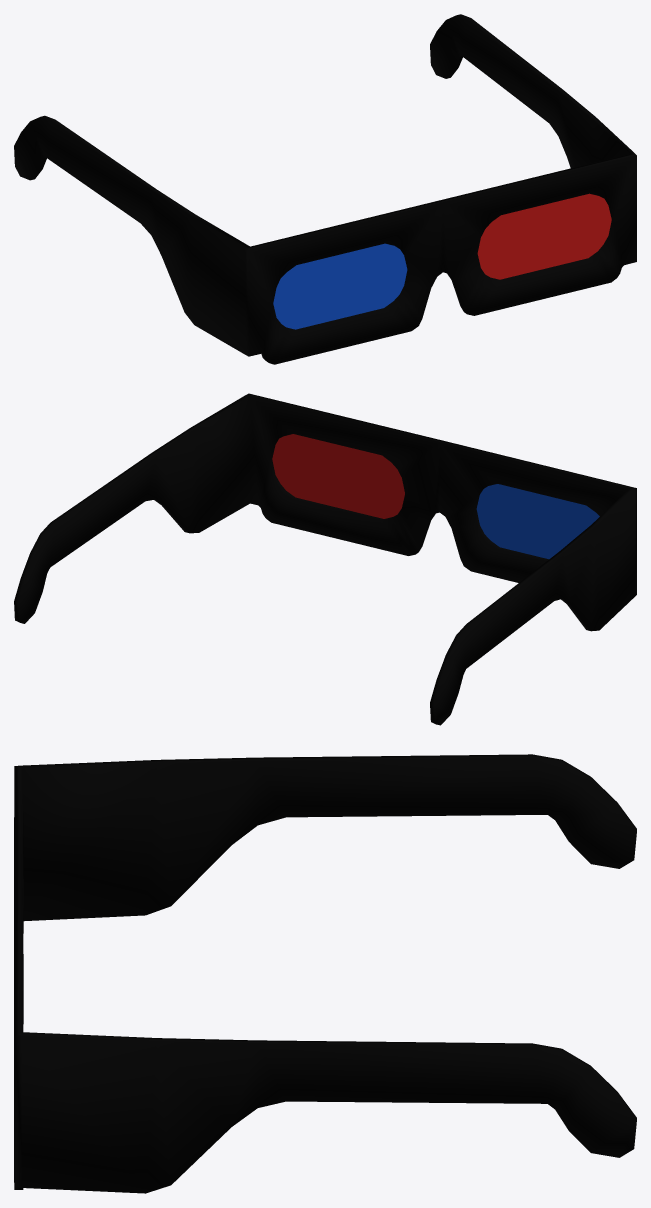
The model's file is acc008_03.dae.
The picture shows the model from 3 angles, top to bottom: view 1: azimuth 30°, elevation 25°; view 2: azimuth 150°, elevation 25°; view 3: azimuth 270°, elevation 25°; orthographic projection. The views are drawn at different scales.
Parts seen in each view (by area): view 1: m_frame1, m_lens; view 2: m_frame1, m_lens; view 3: m_frame1.
Part boxes in pixels (<box>): m_frame1: <box>14,14,636,364</box>; m_lens: <box>273,193,611,329</box>; m_frame1: <box>14,393,636,725</box>; m_lens: <box>272,434,599,559</box>; m_frame1: <box>14,754,636,1193</box>.
Size of the model in its own units: 72 by 19.81 by 64.8.
